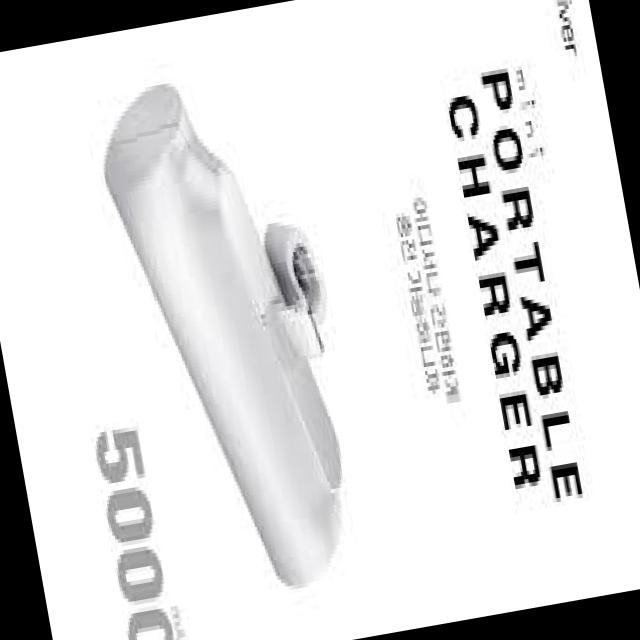power_bank: (85, 60, 378, 613)
